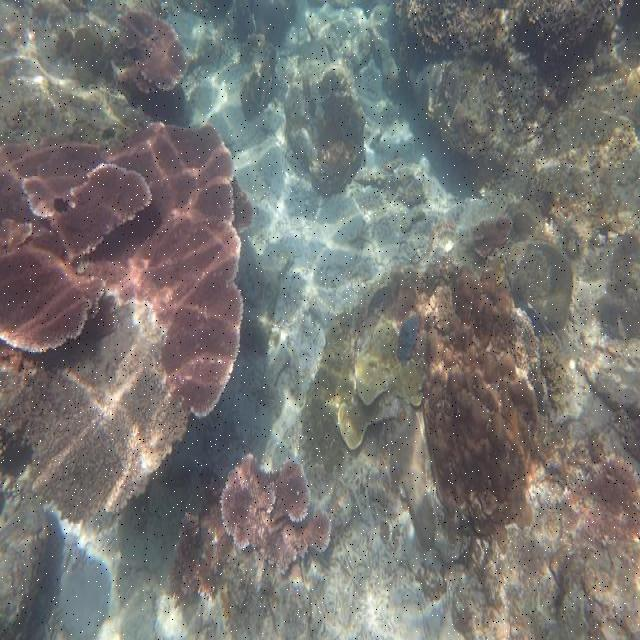reefs: (0, 123, 253, 414), (0, 310, 188, 520), (421, 267, 550, 535), (166, 458, 335, 600), (564, 455, 639, 541)
